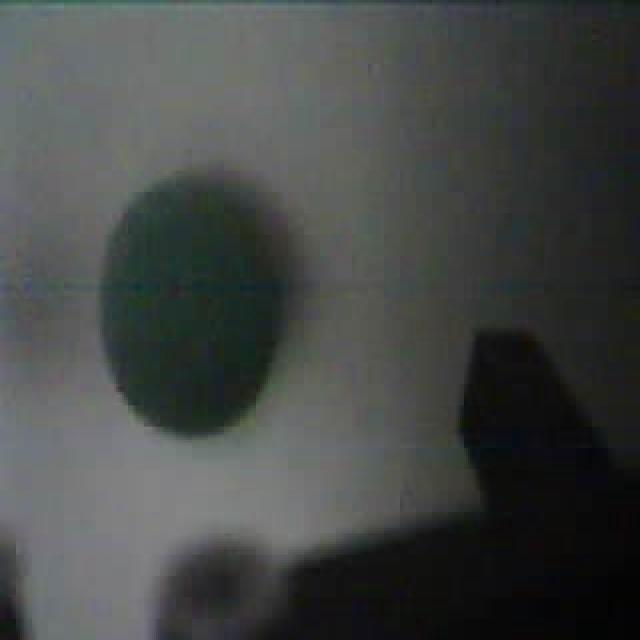green_ball: (94, 160, 298, 440)
